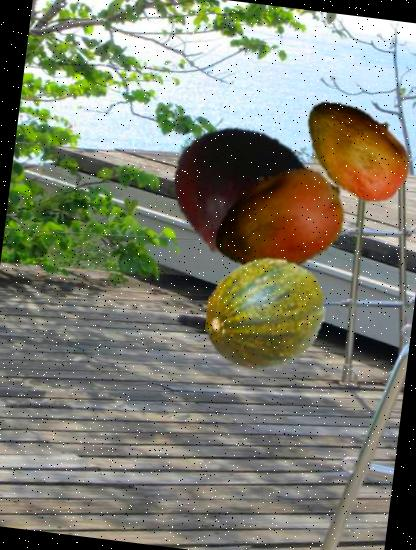Chestnut: (161, 114, 320, 274)
Melon: (200, 248, 332, 380)
Papaya: (200, 143, 356, 299), (287, 80, 416, 217)
